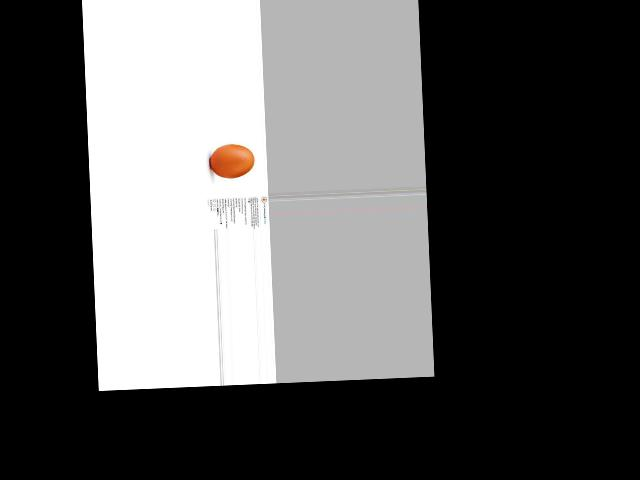egg: (209, 143, 254, 179)
